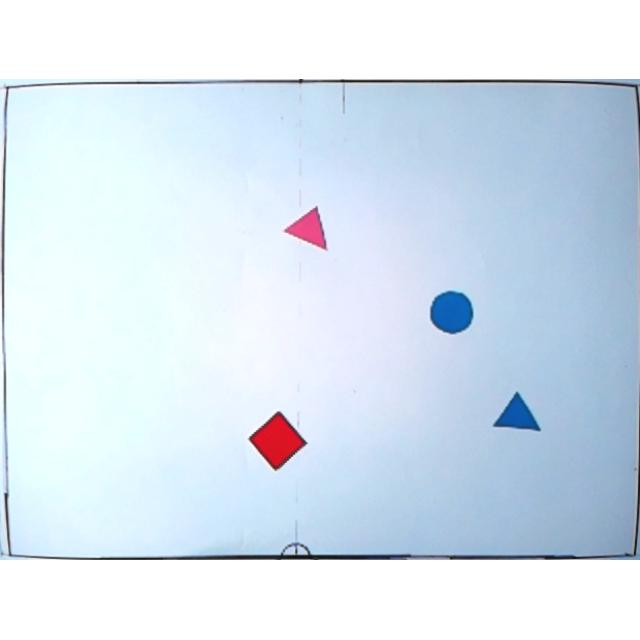blueCircle: (429, 292, 473, 334)
blueTriangle: (492, 390, 542, 434)
pinkTriangle: (282, 206, 328, 254)
redSquare: (248, 412, 306, 472)
